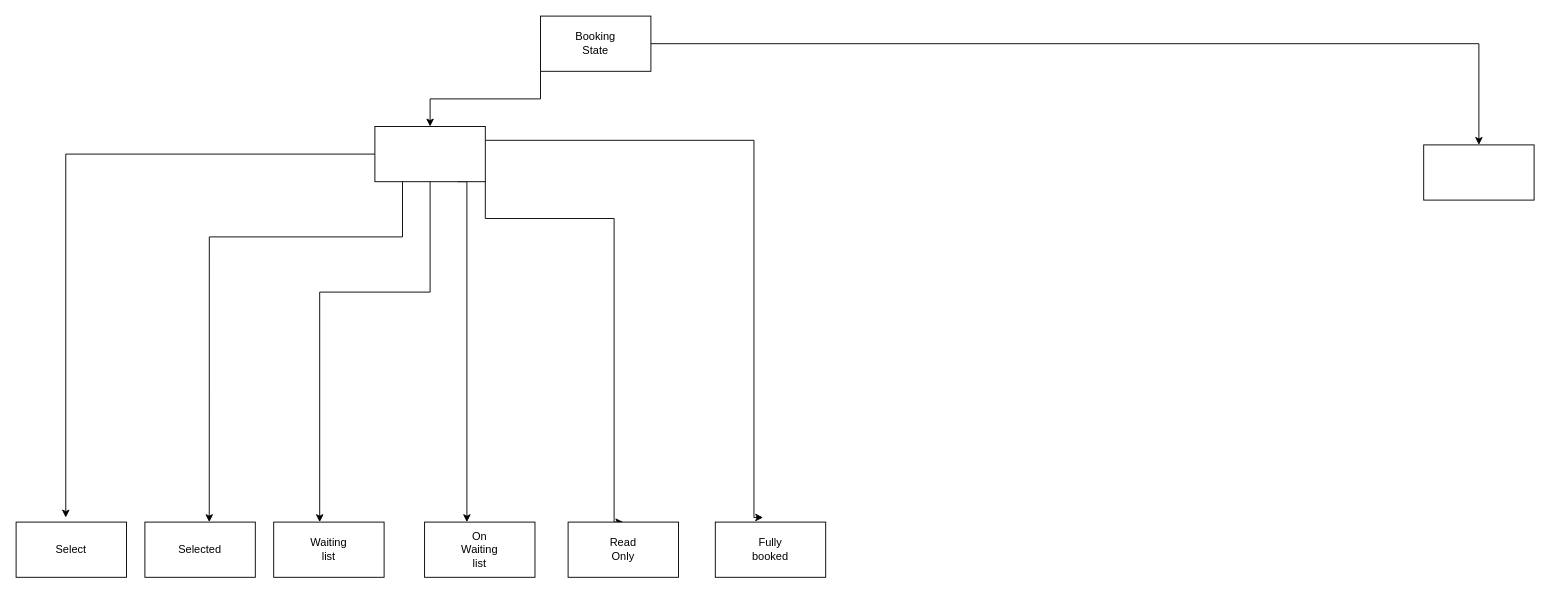
The diagram is 1550 pixels wide and 593 high, and some of its shapes have lost their labels. The centre of each missing label's shape, as x and y in pixels:
"Grouped" goes at point 1478,172.
"Single" goes at point 429,154.
